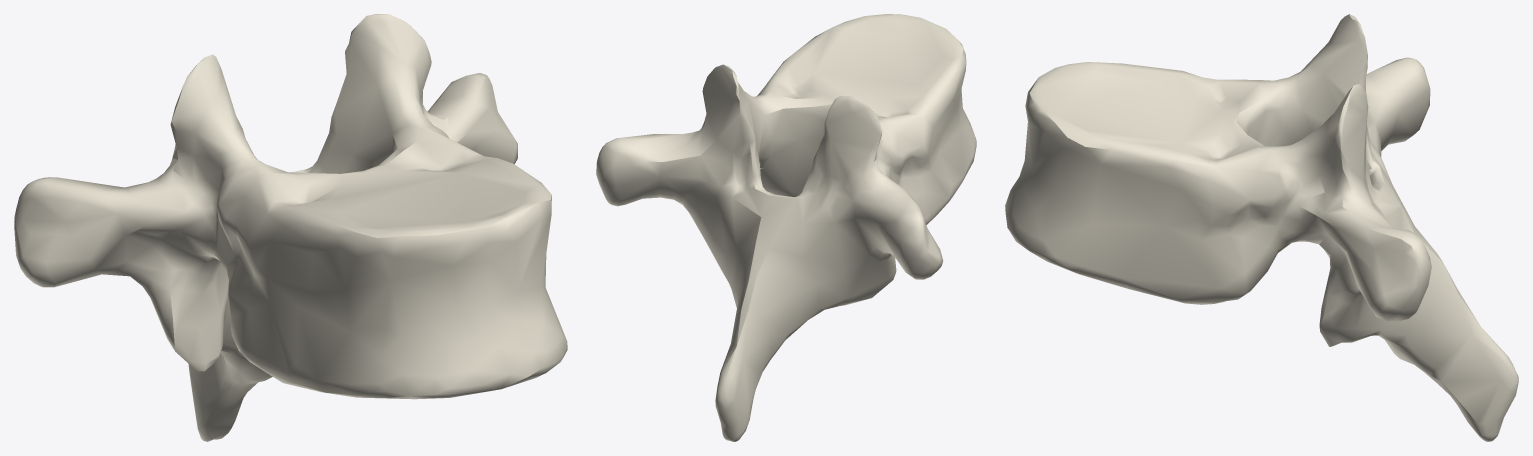
Rendered from fma9991_fj3174.glb.
The picture shows the model from 3 angles, left to right: view 1: azimuth 30°, elevation 25°; view 2: azimuth 150°, elevation 25°; view 3: azimuth 270°, elevation 25°; orthographic projection. The views are drawn at different scales.
Parts seen in each view (by area): view 1: FMA9991_FJ3174; view 2: FMA9991_FJ3174; view 3: FMA9991_FJ3174.
Boxes of the visible parts, x1,y1,x2,y2 form: FMA9991_FJ3174: (14, 14, 567, 441); FMA9991_FJ3174: (596, 14, 976, 441); FMA9991_FJ3174: (1005, 14, 1518, 441).
Size of the model in its own units: 0.0658 by 0.0593 by 0.0711.
